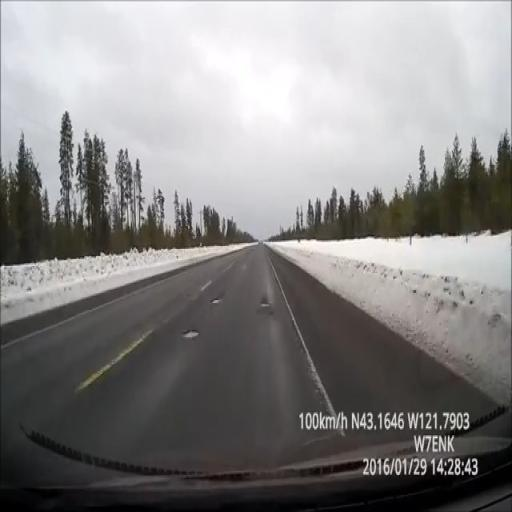Potholes: (182, 320, 198, 343), (261, 300, 269, 306), (212, 299, 220, 303)
